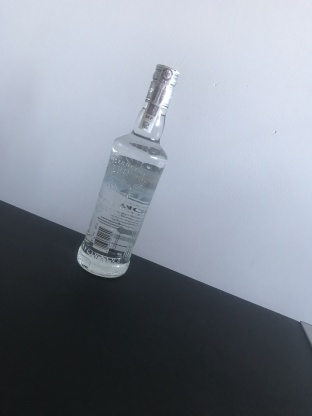nakretka: (143, 60, 181, 111)
